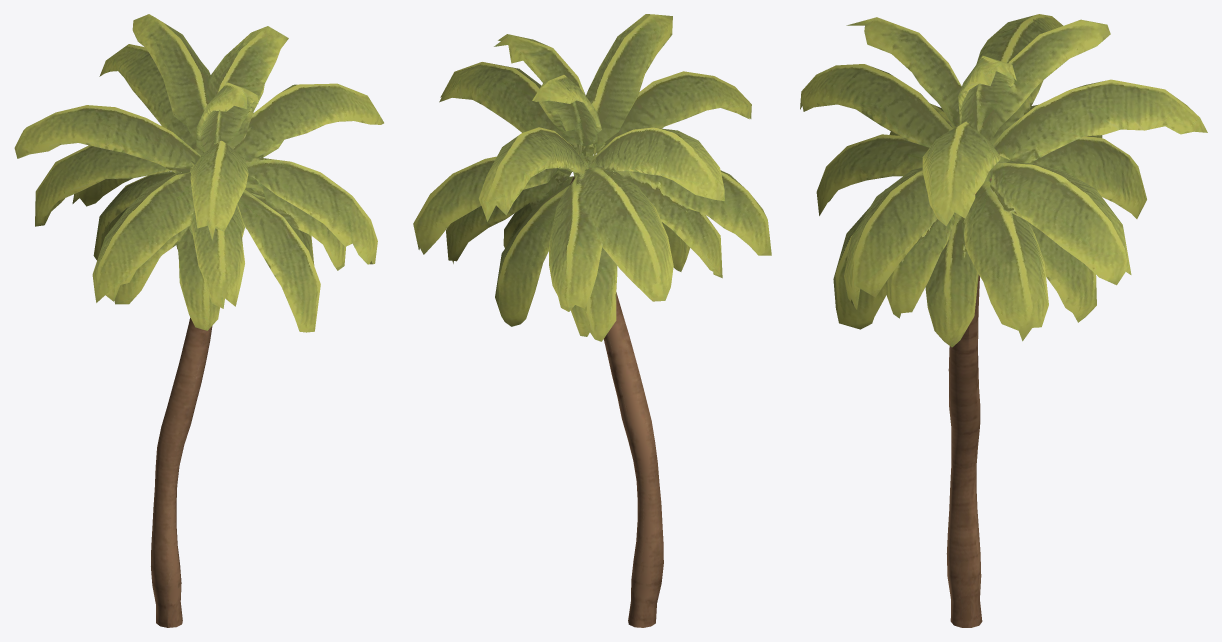
Rendered from palm_a.glb.
The picture shows the model from 3 angles, left to right: view 1: azimuth 30°, elevation 25°; view 2: azimuth 150°, elevation 25°; view 3: azimuth 270°, elevation 25°; orthographic projection. The views are drawn at different scales.
Visible parts, largest first — view 1: body; view 2: body; view 3: body.
Part boxes in pixels (box(x1,y1,x2,y2)): body: box(14, 14, 383, 627); body: box(413, 14, 771, 627); body: box(800, 14, 1207, 627).
Bounding box in the file's own units: 5.17 × 8.55 × 5.08.
2 materials, 2 textured.
